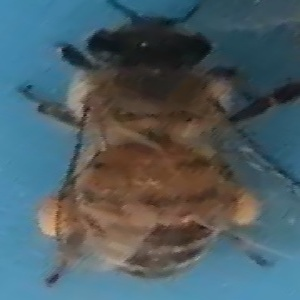bee: (10, 2, 300, 290)
